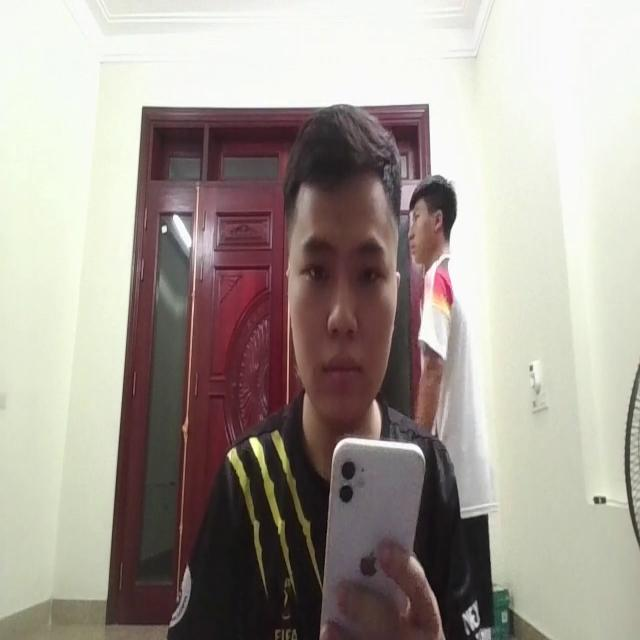extra_person: (410, 149, 497, 639)
phone: (324, 412, 419, 640)
student: (192, 99, 457, 640)
